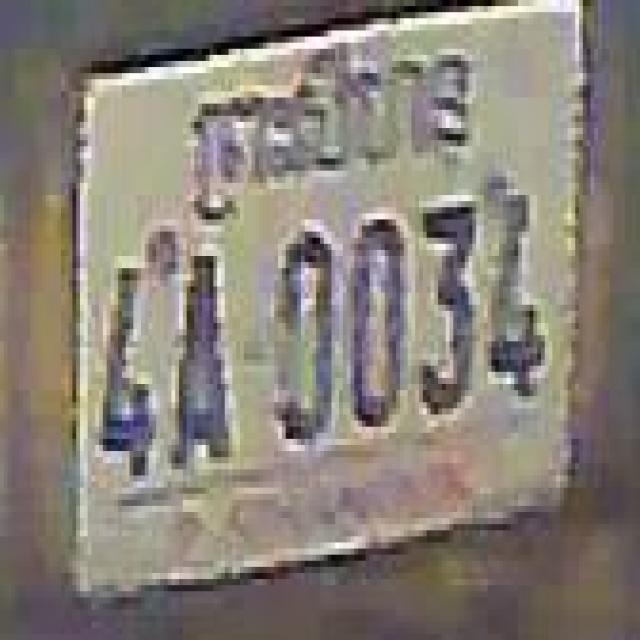Preah_Sihanouk: (190, 37, 470, 234)
